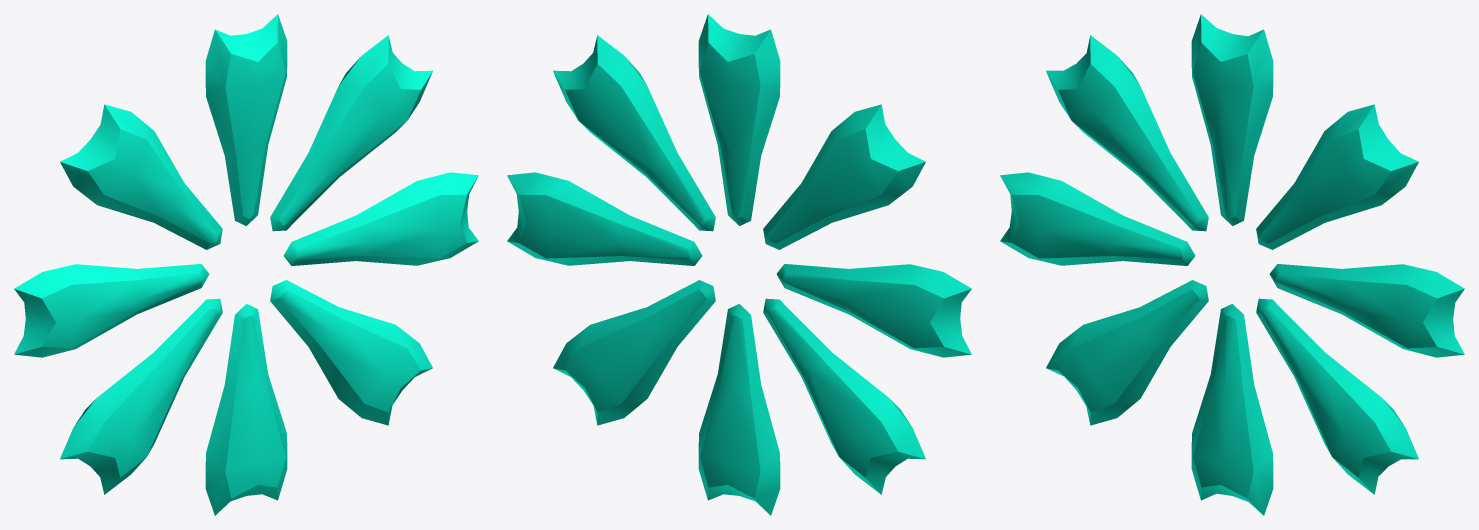
The model's file is SnowCrystal_TypeA.FBX.
The picture shows the model from 3 angles, left to right: view 1: azimuth 30°, elevation 25°; view 2: azimuth 150°, elevation 25°; view 3: azimuth 330°, elevation 25°; orthographic projection.
Visible parts, largest first — view 1: SnowCrystal_TypeA; view 2: SnowCrystal_TypeA; view 3: SnowCrystal_TypeA.
Boxes of the visible parts, left/top/right/bottom form: SnowCrystal_TypeA: left=14, top=14, right=478, bottom=515; SnowCrystal_TypeA: left=507, top=14, right=971, bottom=515; SnowCrystal_TypeA: left=1000, top=14, right=1464, bottom=515.
Size of the model in its own units: 25.15 by 25.15 by 2.42.
